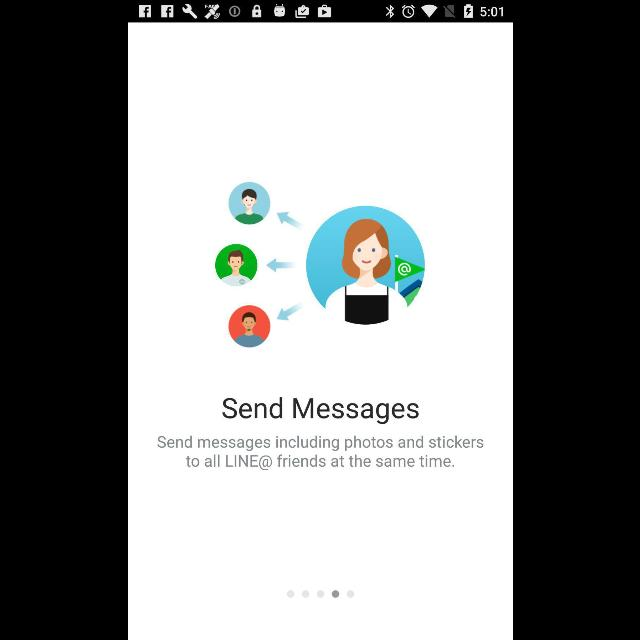image: (213, 182, 424, 348)
pageindicator: (286, 590, 354, 598)
text: (156, 436, 484, 470), (222, 397, 418, 425)
uppertaskbar: (128, 1, 512, 23)
